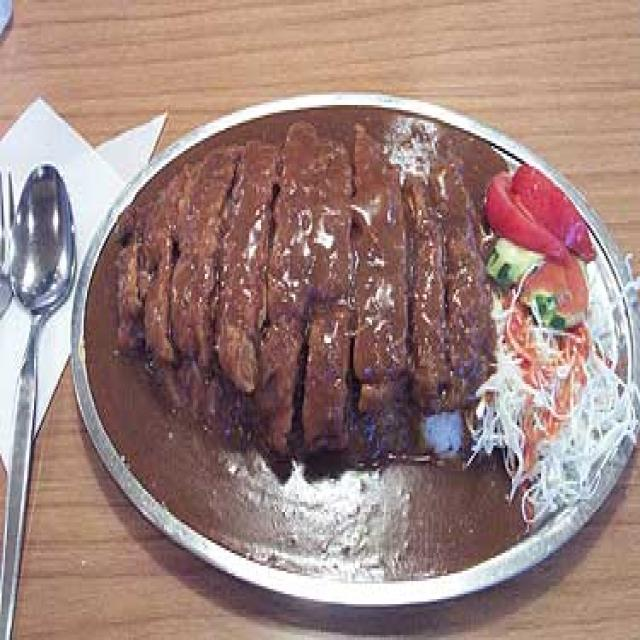猪肉菜式: (59, 71, 640, 619)
